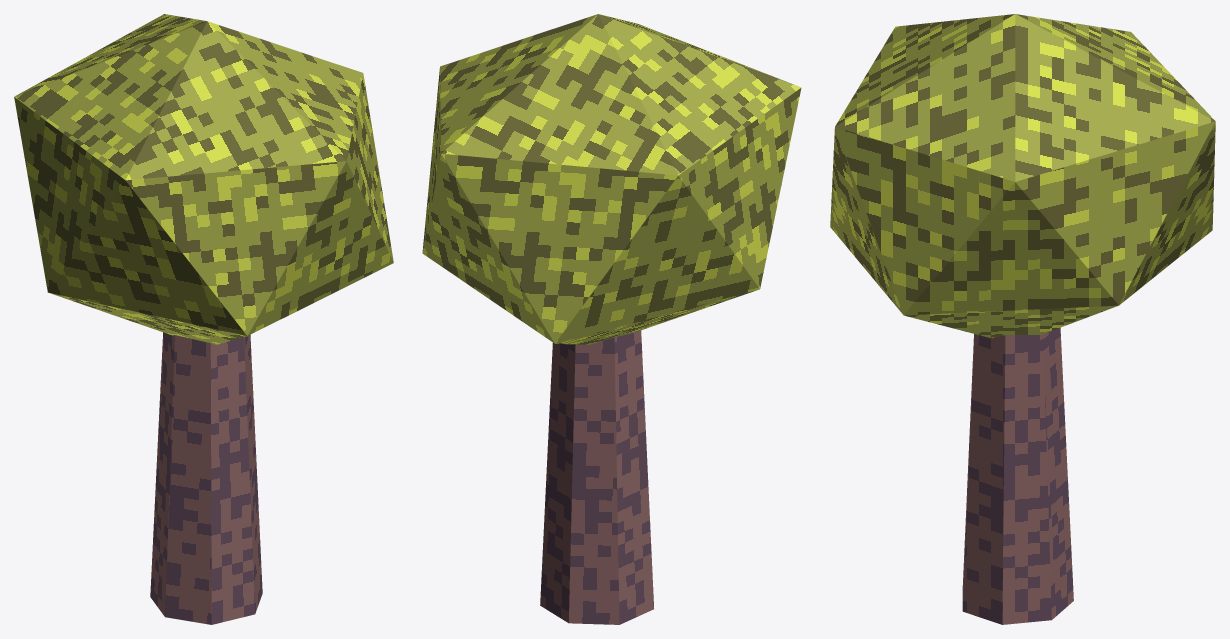
The model's file is r04_arvore_cortavel.glb.
3 renders of one model, left to right at view 1: azimuth 30°, elevation 25°; view 2: azimuth 150°, elevation 25°; view 3: azimuth 270°, elevation 25°, orthographic.
Visible parts, largest first — view 1: r04_arvore_cortavel; view 2: r04_arvore_cortavel; view 3: r04_arvore_cortavel.
Boxes of the visible parts, x1=… form: r04_arvore_cortavel: x1=14, y1=14, x2=393, y2=624; r04_arvore_cortavel: x1=422, y1=14, x2=801, y2=624; r04_arvore_cortavel: x1=830, y1=14, x2=1215, y2=624.
Bounding box in the file's own units: 1.89 × 3.32 × 1.98.
2 materials, 2 textured.
